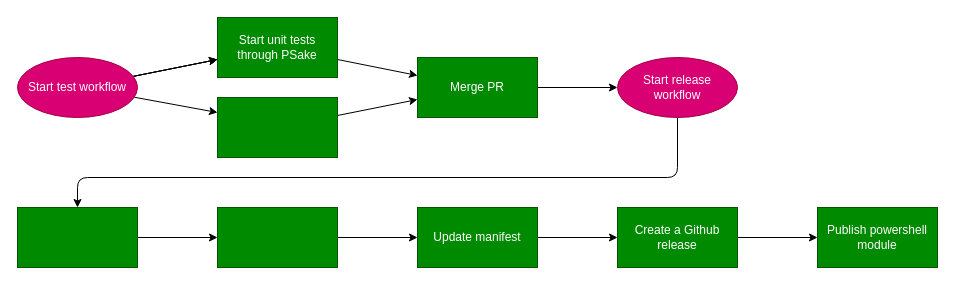
The diagram is 955 pixels wide and 285 high, and some of its shapes have lost their labels. Here are the shapes that lost their labels. From the top down, the box of each, then its label:
(216, 96, 338, 158): Place labels based on branch name
(16, 206, 138, 268): Get previous Git tags
(216, 206, 338, 268): Calculate version based on label
